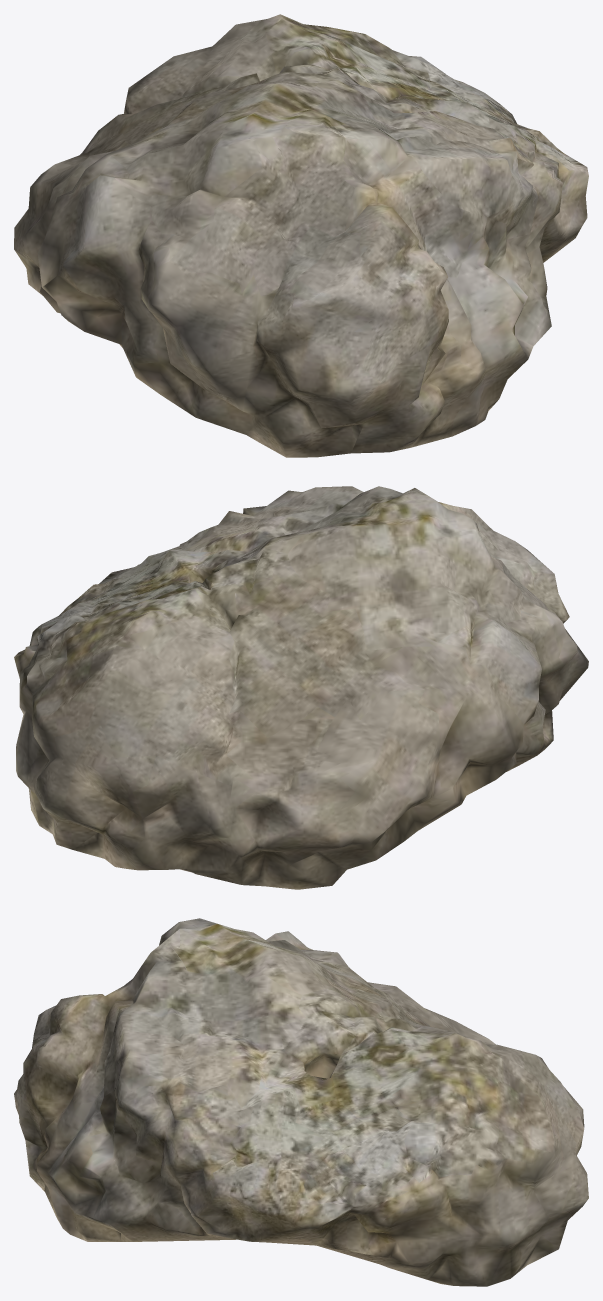
File: prop_rock.glb
The picture shows the model from 3 angles, top to bottom: view 1: azimuth 30°, elevation 25°; view 2: azimuth 150°, elevation 25°; view 3: azimuth 270°, elevation 25°; orthographic projection. The views are drawn at different scales.
Visible parts, largest first — view 1: tripo_node_936d5774-b2f7-488d-8e31-4e7ac49825db; view 2: tripo_node_936d5774-b2f7-488d-8e31-4e7ac49825db; view 3: tripo_node_936d5774-b2f7-488d-8e31-4e7ac49825db.
Boxes of the visible parts, x1=… form: tripo_node_936d5774-b2f7-488d-8e31-4e7ac49825db: x1=14, y1=14, x2=588, y2=457; tripo_node_936d5774-b2f7-488d-8e31-4e7ac49825db: x1=14, y1=486, x2=588, y2=889; tripo_node_936d5774-b2f7-488d-8e31-4e7ac49825db: x1=14, y1=918, x2=588, y2=1286.
Size of the model in its own units: 0.9116 by 0.4792 by 0.9995.
1 material, 1 textured.
